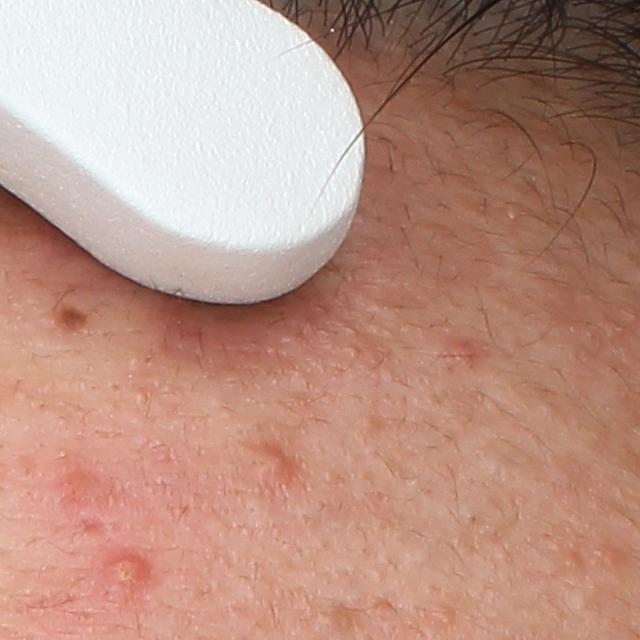nevus: (49, 293, 102, 345)
papule: (57, 461, 117, 503), (242, 442, 297, 481), (443, 327, 476, 375)
pustule: (99, 540, 153, 601)
